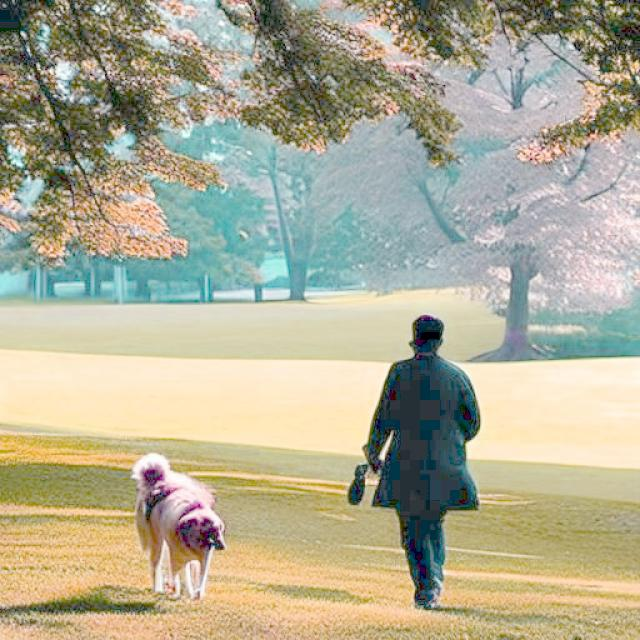Unleashed_Dog: (133, 452, 448, 602)
